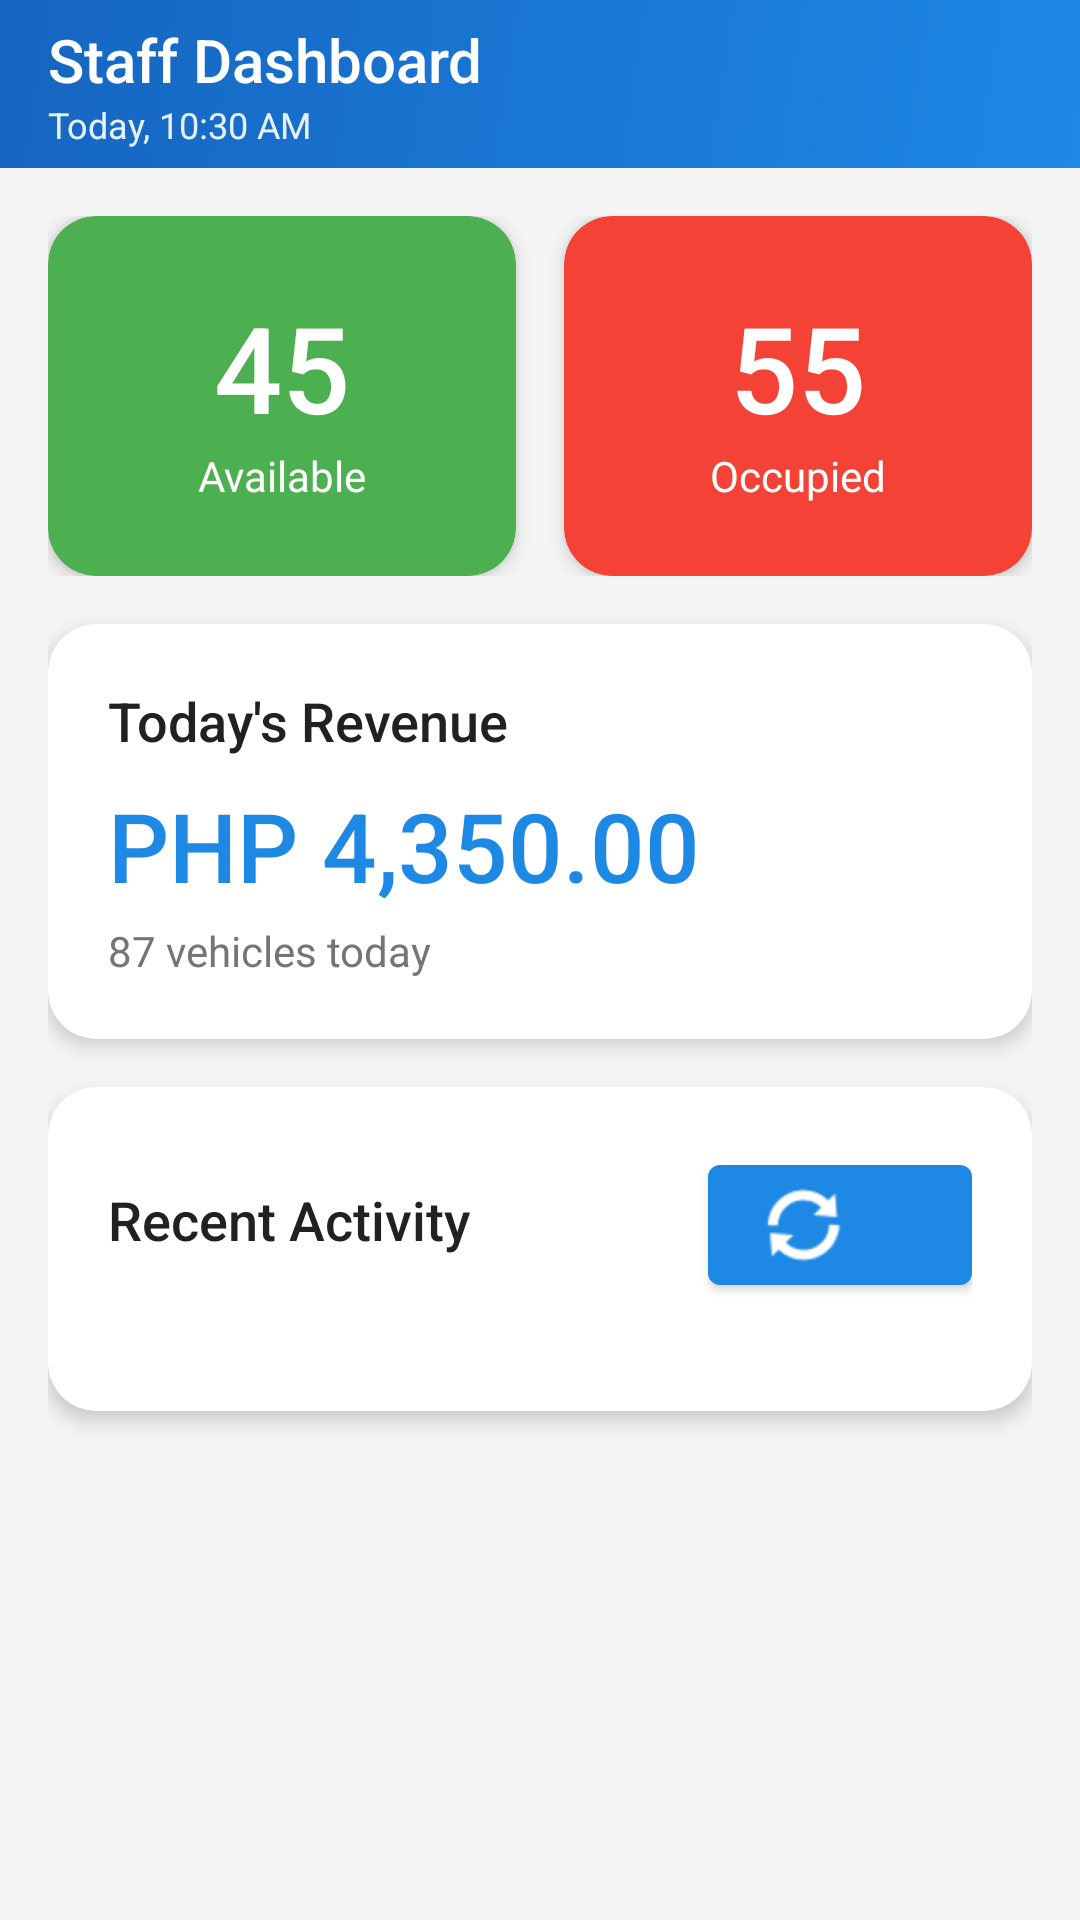

Icons on this 1080 x 1920 Android screen, each with its box as (x1, y1, x2, y2):
popup sync: (708, 1165, 972, 1288)
